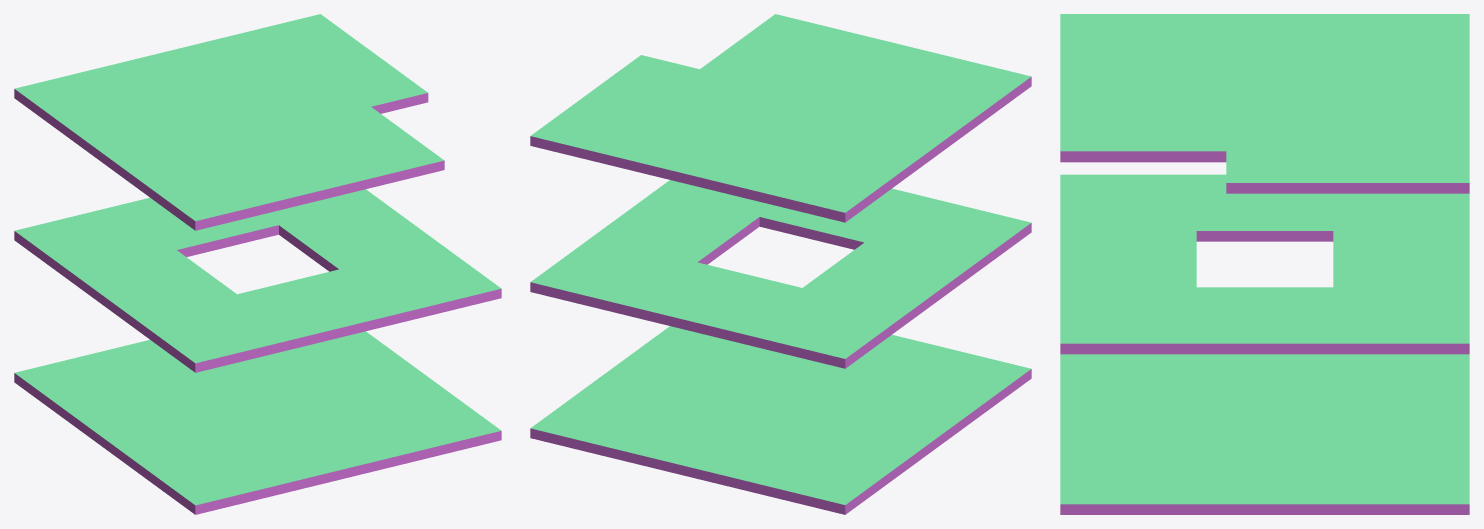
Rendered from ia_podele2.fbx.
The picture shows the model from 3 angles, left to right: view 1: azimuth 30°, elevation 25°; view 2: azimuth 150°, elevation 25°; view 3: azimuth 270°, elevation 25°; orthographic projection. The views are drawn at different scales.
Parts seen in each view (by area): view 1: Box082, Box068, Box081; view 2: Box082, Box068, Box081; view 3: Box082, Box068, Box081.
Part boxes in pixels (<box>): Box082: <box>14,14,444,230</box>; Box068: <box>14,331,501,514</box>; Box081: <box>14,189,501,372</box>; Box082: <box>530,14,1031,222</box>; Box068: <box>530,326,1031,514</box>; Box081: <box>530,180,1031,368</box>; Box082: <box>1060,14,1469,193</box>; Box068: <box>1060,354,1469,514</box>; Box081: <box>1060,174,1469,354</box>.
Bounding box in the file's own units: 404 × 370 × 414.
